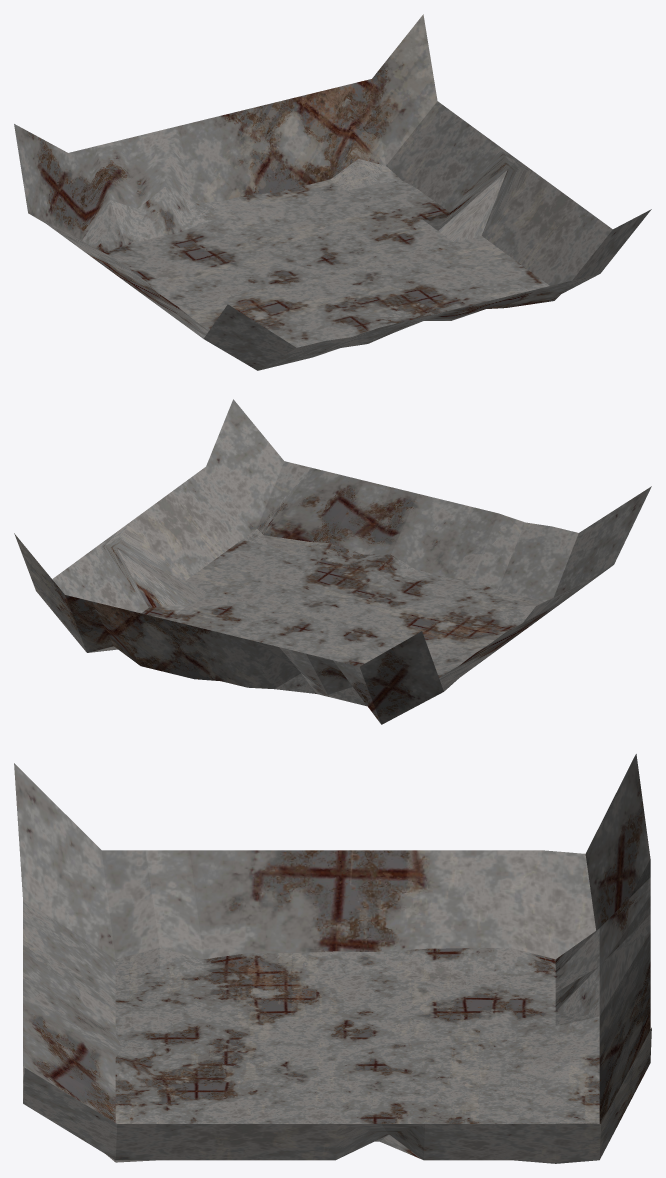
Rendered from stage_Ground.gltf.
3 renders of one model, top to bottom at view 1: azimuth 30°, elevation 25°; view 2: azimuth 150°, elevation 25°; view 3: azimuth 270°, elevation 25°, orthographic. The views are drawn at different scales.
Parts seen in each view (by area): view 1: Ground; view 2: Ground; view 3: Ground.
Part boxes in pixels (x1,y1,x2,y2): Ground: [14, 14, 651, 370]; Ground: [14, 399, 651, 724]; Ground: [14, 754, 651, 1163].
Bounding box in the file's own units: 187 × 53.91 × 175.
Materials: 1 (1 with a texture image).
